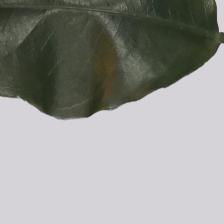healthy: (4, 0, 168, 97)
